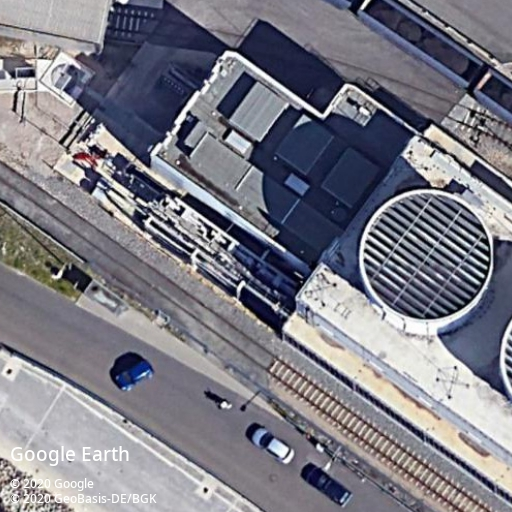Vent: (359, 189, 495, 325)
